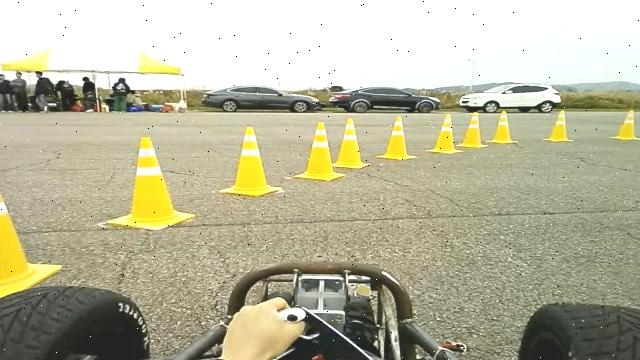blue cone: (127, 105, 144, 112)
yellow cone: (106, 136, 196, 231), (0, 190, 63, 298), (219, 126, 283, 197), (293, 121, 346, 181), (333, 118, 371, 169), (377, 115, 418, 161), (426, 113, 464, 154), (456, 111, 489, 148), (486, 109, 519, 144), (543, 109, 575, 142), (610, 108, 640, 141)
